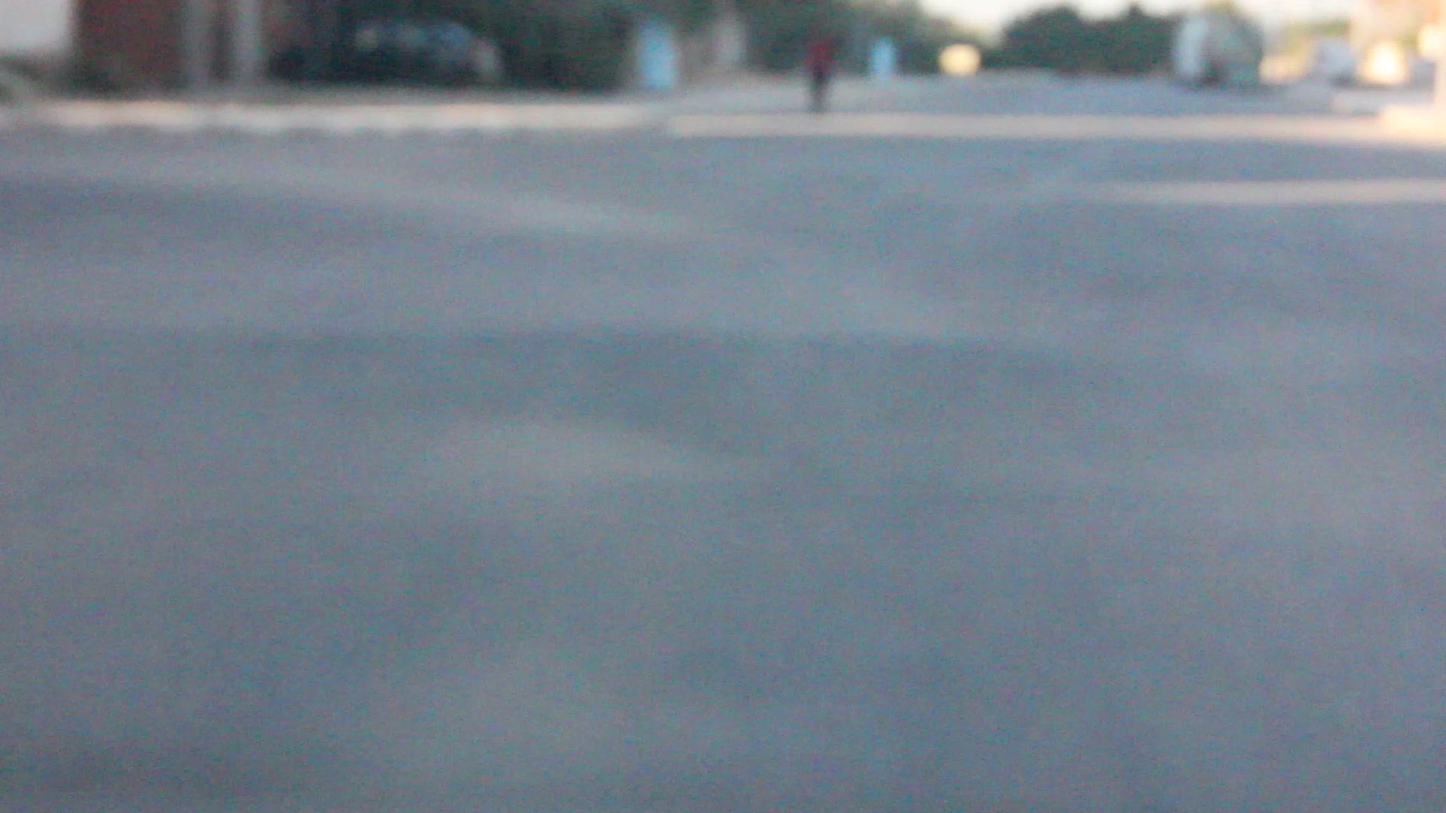Bump: (9, 316, 1446, 521)
